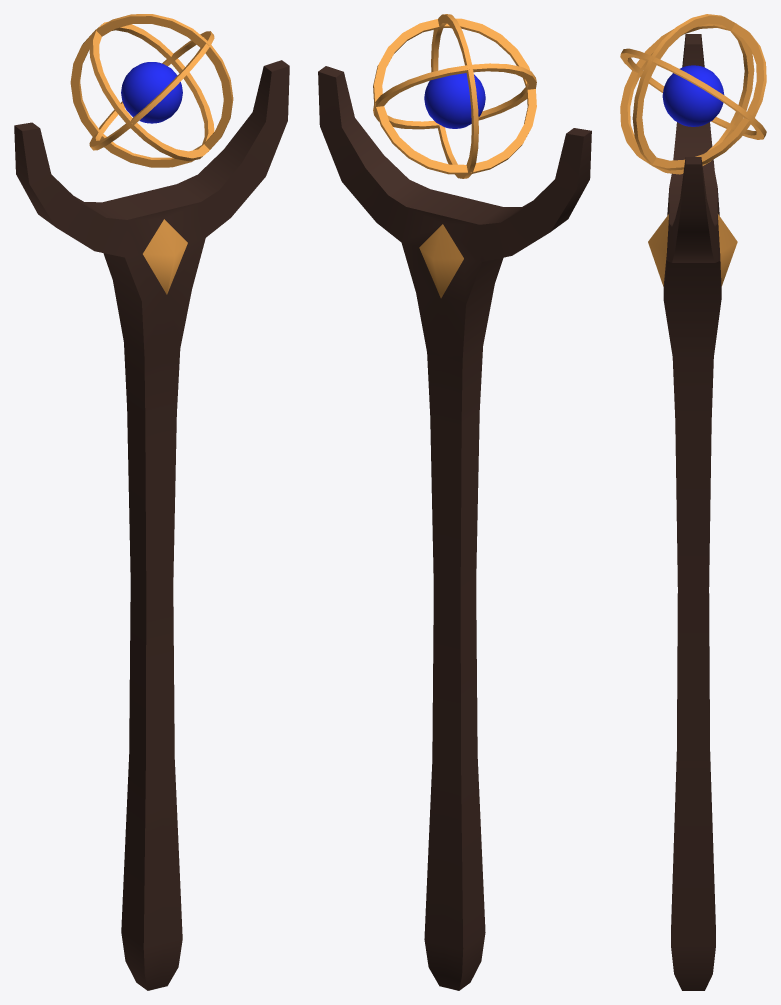
File: 파이어볼.fbx
3 views of the same model, side by side, from view 1: azimuth 30°, elevation 25°; view 2: azimuth 150°, elevation 25°; view 3: azimuth 270°, elevation 25° (orthographic).
Parts seen in each view (by area): view 1: Box003, Cylinder001, Cylinder002, Sphere001, Cylinder003; view 2: Box003, Cylinder003, Cylinder002, Sphere001, Cylinder001; view 3: Box003, Cylinder002, Cylinder001, Sphere001, Cylinder003.
Boxes of the visible parts, x1,y1,x2,y2 form: Box003: (14,60,289,990); Cylinder001: (70,14,233,167); Cylinder002: (89,21,214,161); Sphere001: (121,62,182,123); Cylinder003: (89,31,214,150); Box003: (318,66,591,990); Cylinder003: (373,18,536,174); Cylinder002: (373,63,536,129); Sphere001: (424,73,485,128); Cylinder001: (431,14,478,178); Box003: (648,34,737,990); Cylinder002: (620,23,766,170); Cylinder001: (632,14,754,174); Sphere001: (662,65,724,126); Cylinder003: (620,48,766,139).
Bounding box in the file's own units: 47.37 × 22.5 × 164.
